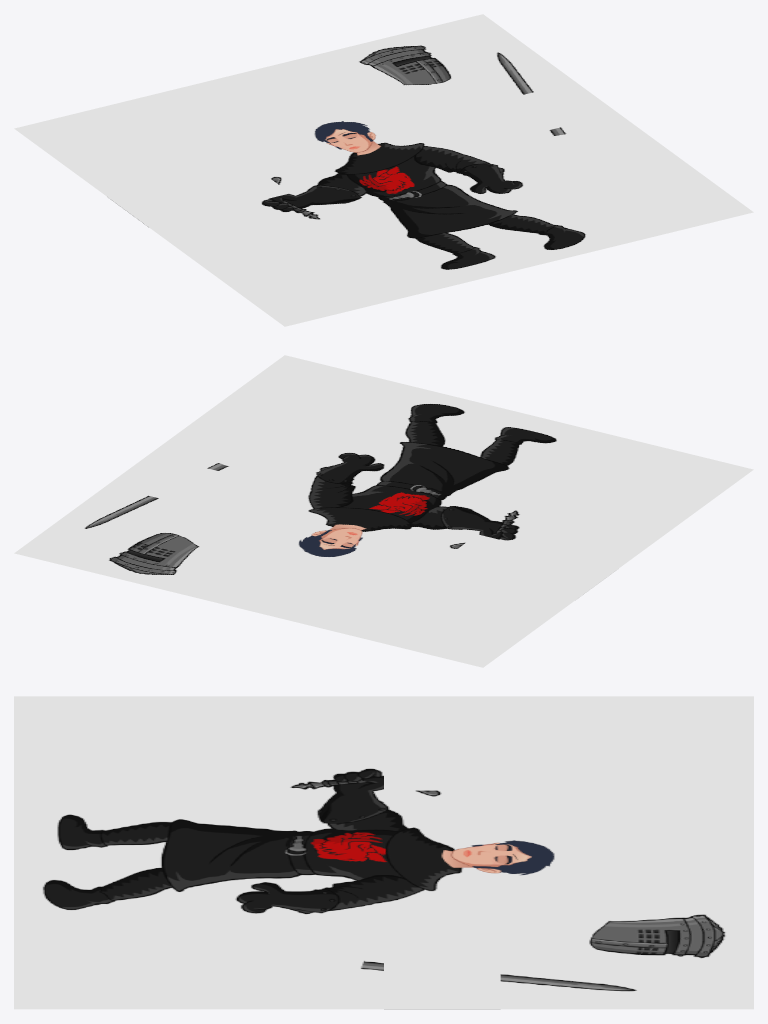
Rendered from Level 86 make headphone head round cover with rolled paper.fbx.
The picture shows the model from 3 angles, top to bottom: view 1: azimuth 30°, elevation 25°; view 2: azimuth 150°, elevation 25°; view 3: azimuth 270°, elevation 25°; orthographic projection. The views are drawn at different scales.
Parts seen in each view (by area): view 1: Mesh, Blend2, Blend1; view 2: Mesh, Blend2, Blend1; view 3: Mesh, Blend2, Blend1.
Part boxes in pixels (left/top/right/bottom): Mesh: left=14, top=14, right=753, bottom=326; Blend2: left=427, top=82, right=617, bottom=149; Blend1: left=107, top=162, right=289, bottom=227; Mesh: left=14, top=355, right=753, bottom=667; Blend2: left=107, top=454, right=298, bottom=521; Blend1: left=435, top=534, right=618, bottom=599; Mesh: left=14, top=696, right=753, bottom=1009; Blend2: left=384, top=909, right=500, bottom=1009; Blend1: left=384, top=696, right=500, bottom=790.
Size of the model in its own units: 2400 by 1 by 2400.
